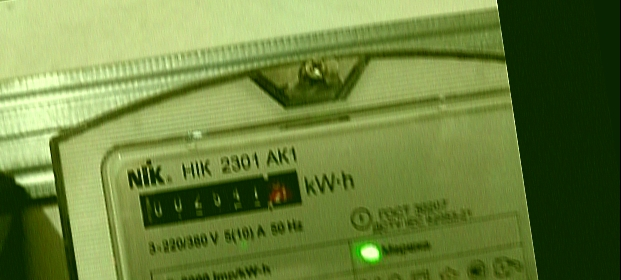0: (147, 195, 163, 217), (168, 190, 183, 212)
1: (246, 179, 260, 201)
2: (188, 188, 202, 209)
4: (227, 181, 242, 204)
5: (206, 184, 221, 208)
6: (270, 188, 283, 204)
screen: (125, 158, 313, 238)
